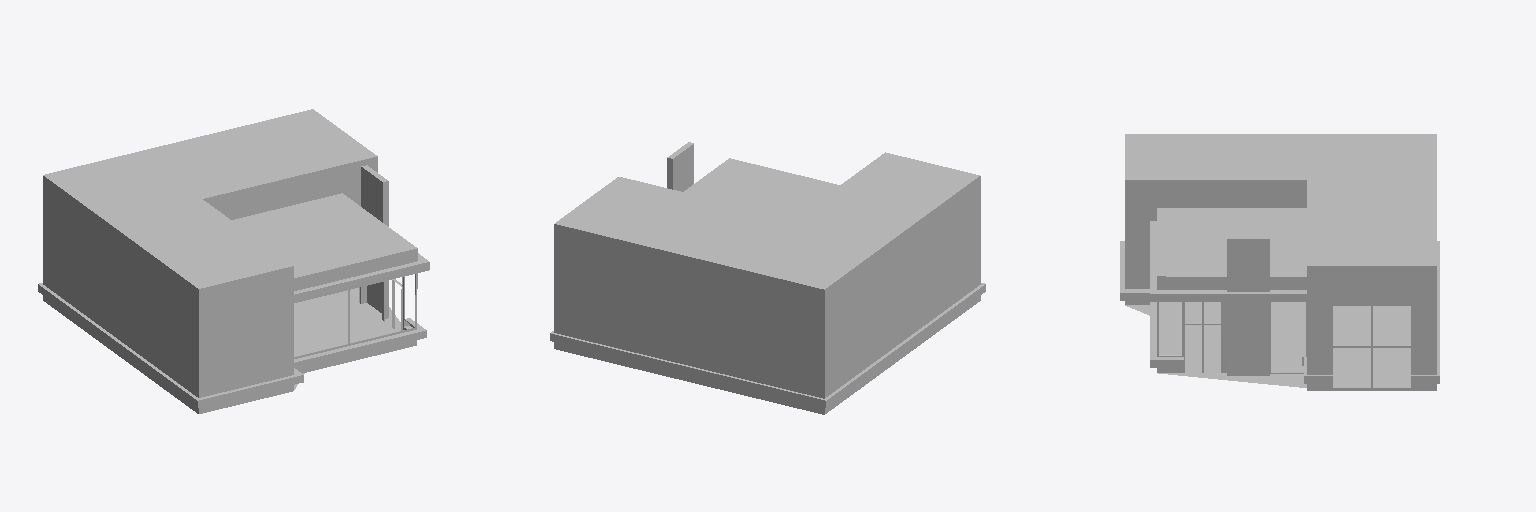
3 renders of one model, left to right at view 1: azimuth 30°, elevation 25°; view 2: azimuth 150°, elevation 25°; view 3: azimuth 270°, elevation 25°, orthographic.
Parts seen in each view (by area): view 1: blackbuild, woodbuild.001, pollbuild, whitebuild, redbuild, framebuild; view 2: woodbuild.001, blackbuild, whitebuild, pollbuild, redbuild; view 3: blackbuild, woodbuild.001, pollbuild, redbuild, whitebuild, framebuild.
Boxes of the visible parts, box(x1,y1,x2,y2) form: blackbuild: box(43, 109, 417, 397); woodbuild.001: box(43, 176, 410, 394); pollbuild: box(43, 282, 416, 413); whitebuild: box(38, 253, 429, 407); redbuild: box(361, 165, 388, 318); framebuild: box(294, 273, 417, 358); woodbuild.001: box(554, 163, 976, 398); blackbuild: box(555, 152, 980, 289); whitebuild: box(550, 283, 985, 407); pollbuild: box(554, 296, 980, 414); redbuild: box(667, 142, 693, 191); blackbuild: box(1125, 134, 1436, 374); woodbuild.001: box(1131, 180, 1410, 305); pollbuild: box(1125, 301, 1436, 390); redbuild: box(1227, 236, 1269, 375); whitebuild: box(1120, 221, 1439, 383); framebuild: box(1157, 302, 1410, 390).
Size of the model in its own units: 369 by 175 by 369.